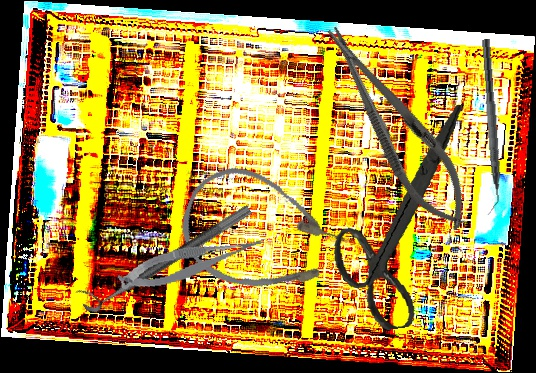Cannula: (167, 154, 355, 316)
Chopper: (469, 38, 506, 216)
Fixation Ring: (74, 190, 254, 317)
Iris Scissors: (315, 104, 494, 336)
Micro Scissor: (114, 231, 271, 295)
Needle Holder: (308, 12, 486, 242)
